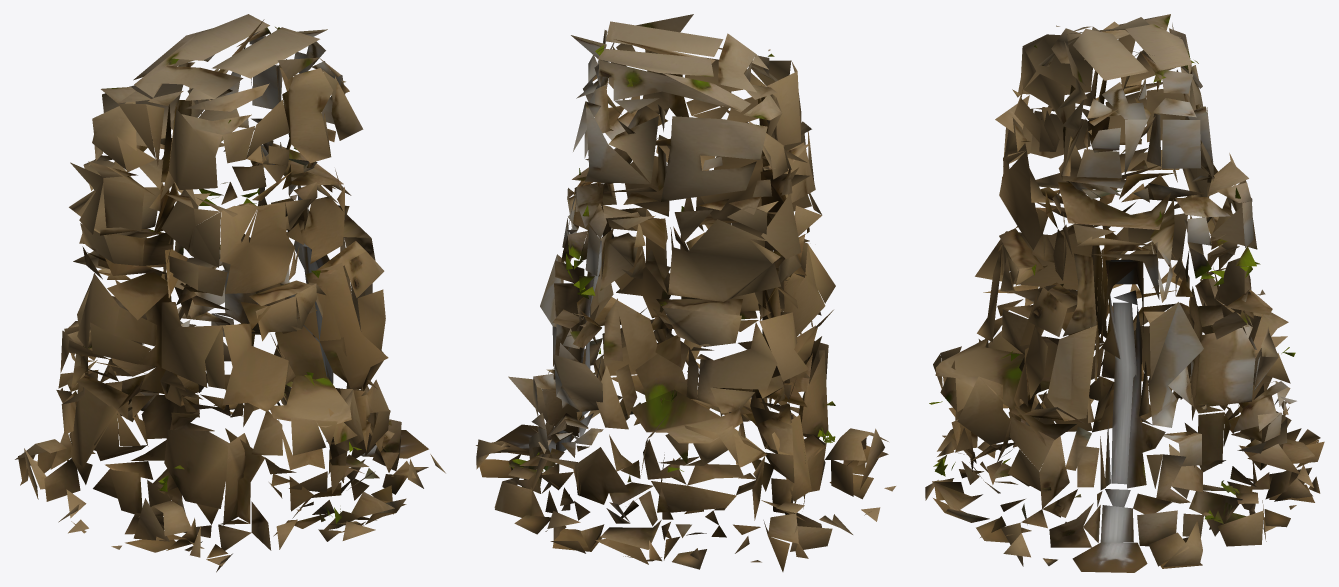
Rendered from ch7_waterfall_cliff_LOD3.glb.
3 views of the same model, side by side, from view 1: azimuth 30°, elevation 25°; view 2: azimuth 150°, elevation 25°; view 3: azimuth 270°, elevation 25° (orthographic). The views are drawn at different scales.
Visible parts, largest first — view 1: tripo_node_9d7ade54-06a1-4f0d-8d2b-cd53d888e29c; view 2: tripo_node_9d7ade54-06a1-4f0d-8d2b-cd53d888e29c; view 3: tripo_node_9d7ade54-06a1-4f0d-8d2b-cd53d888e29c.
Part boxes in pixels (x1,y1,x2,y2): tripo_node_9d7ade54-06a1-4f0d-8d2b-cd53d888e29c: [15, 14, 445, 572]; tripo_node_9d7ade54-06a1-4f0d-8d2b-cd53d888e29c: [476, 14, 895, 571]; tripo_node_9d7ade54-06a1-4f0d-8d2b-cd53d888e29c: [925, 14, 1324, 572].
Size of the model in its own units: 0.8551 by 1.03 by 0.7997.
Materials: 1 (1 with a texture image).
